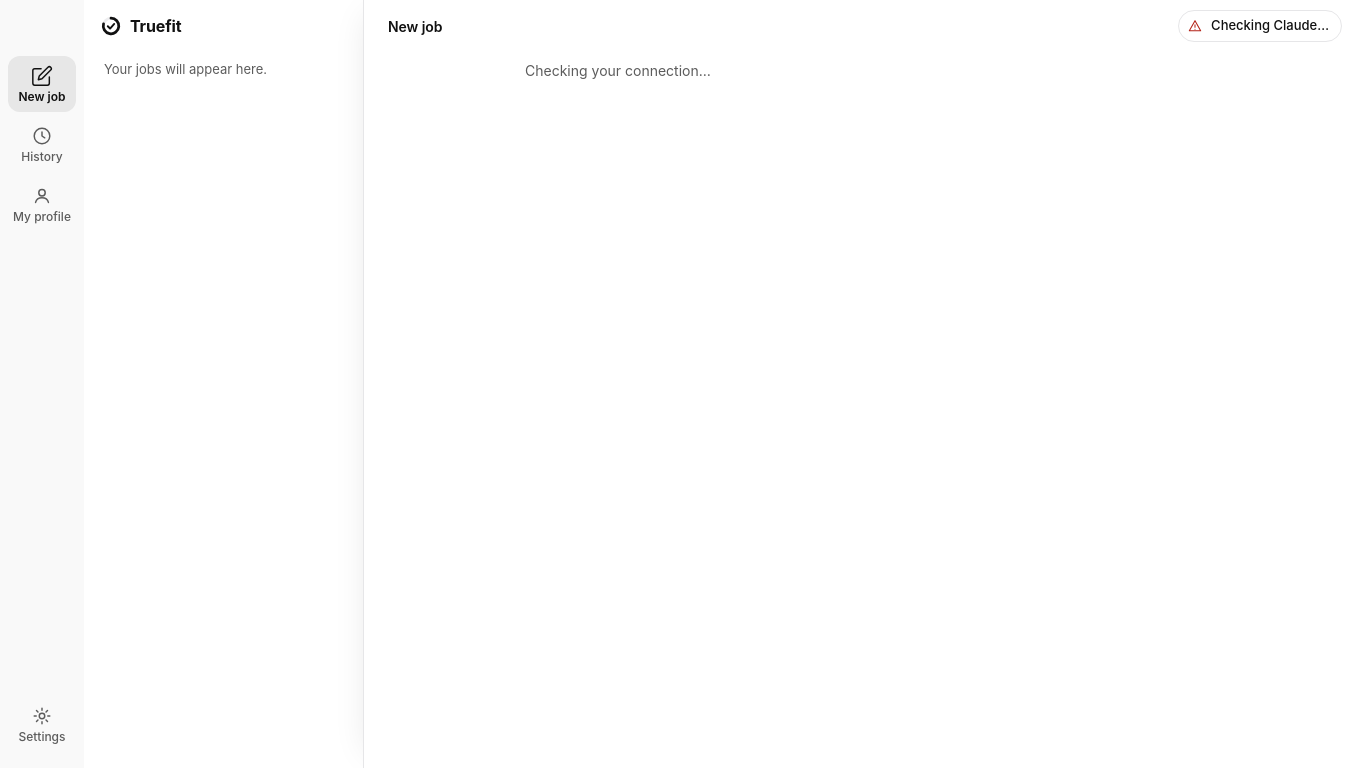
Test: the frame › has four labelled icon pages in the rail; History and Settings are real pages
This screenshot has width=1366, height=768.
Click the button with aria-label "History".
click(42, 144)  # box [8,116,76,172]
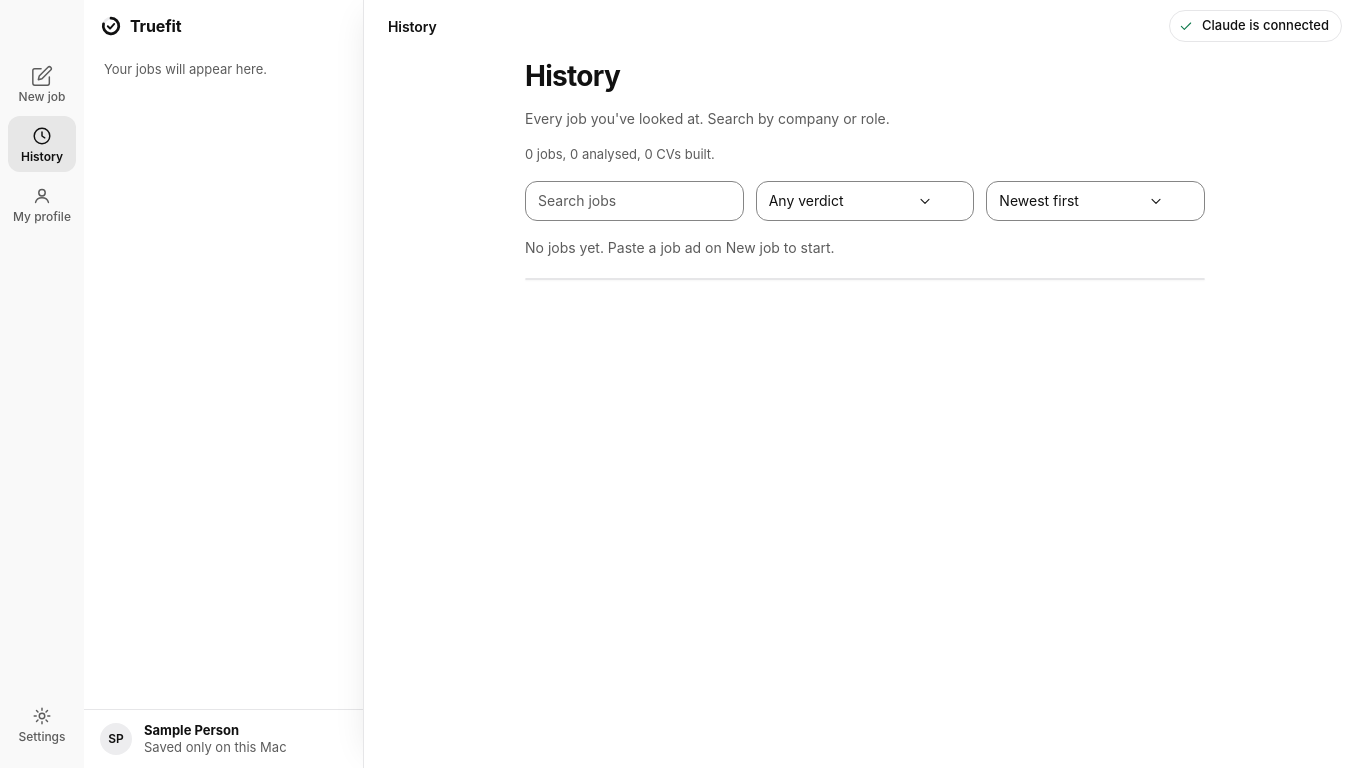
Expected: the element with test id "history" is shown, [525,60,1205,280]
